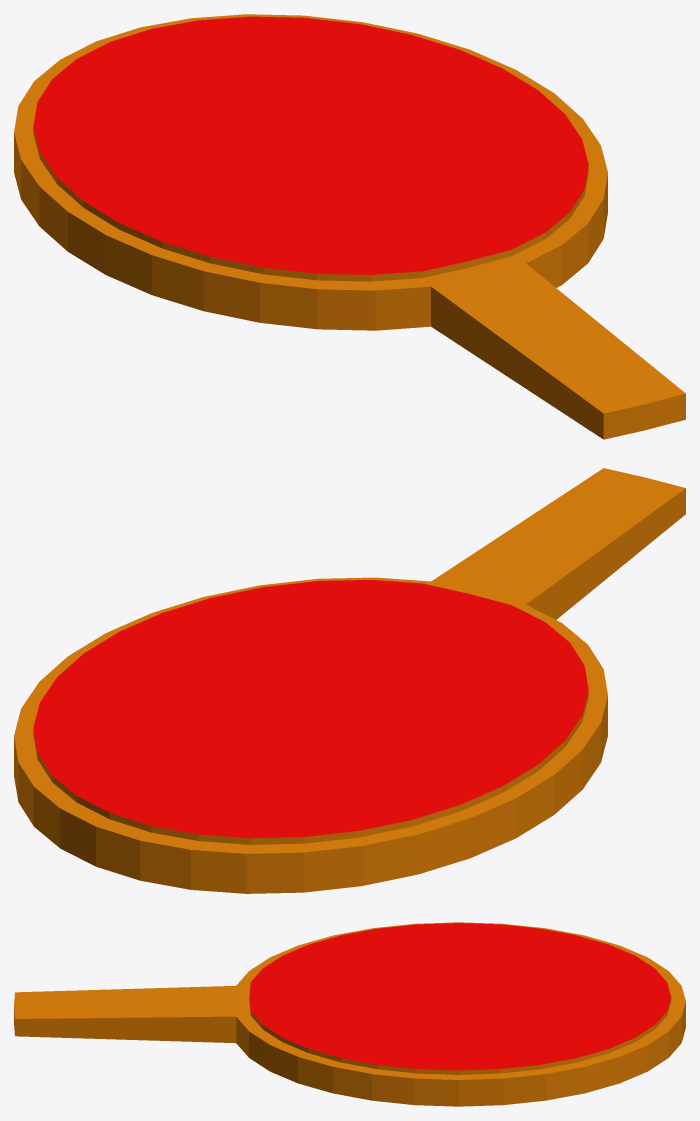
File: raquatteJ2.fbx
3 renders of one model, top to bottom at view 1: azimuth 30°, elevation 25°; view 2: azimuth 150°, elevation 25°; view 3: azimuth 270°, elevation 25°, orthographic. The views are drawn at different scales.
Parts seen in each view (by area): view 1: Paddle; view 2: Paddle; view 3: Paddle.
Boxes of the visible parts, x1,y1,x2,y2 form: Paddle: (14, 14, 685, 439); Paddle: (14, 468, 685, 893); Paddle: (14, 922, 685, 1106).
Bounding box in the file's own units: 15 × 1.5 × 27.
